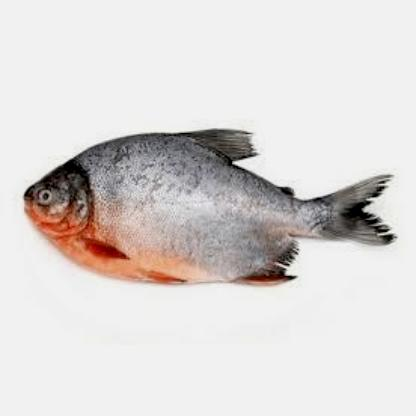ikan-pacu: (18, 130, 368, 284)
